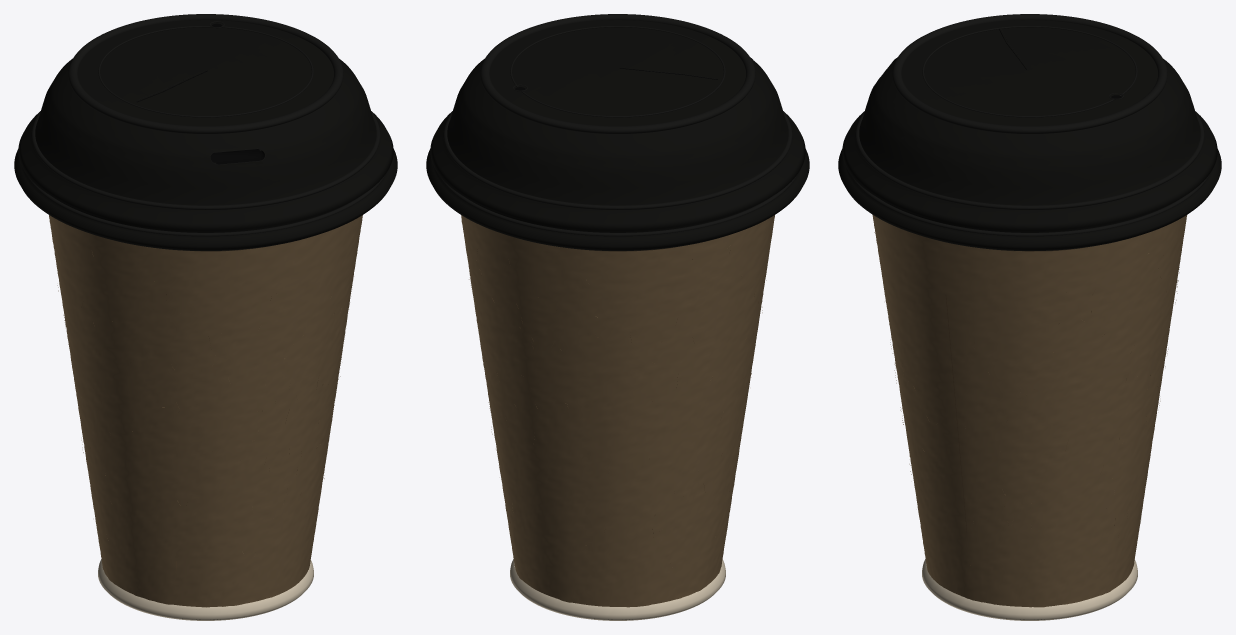
Rendered from paper-cup.glb.
The picture shows the model from 3 angles, left to right: view 1: azimuth 30°, elevation 25°; view 2: azimuth 150°, elevation 25°; view 3: azimuth 270°, elevation 25°; orthographic projection.
Parts seen in each view (by area): view 1: cup_body_outer_tapered_kraft_paper, single_piece_molded_lid_shell_with_cut_through_sip_aperture, slightly_recessed_flat_drinking_lid_top_panel, raised_circular_rim_around_recessed_top_panel, subtle_warm_offwhite_crimped_base_foot_ring, upper_lid_side_bead_above_skirt, lower_double_bead_lid_ridge, inner_fine_circular_mold_line_on_lid_top, dark_recessed_interior_walls_inside_front_sip_aperture, flush_molded_annular_bevel_around_sip_opening; view 2: cup_body_outer_tapered_kraft_paper, single_piece_molded_lid_shell_with_cut_through_sip_aperture, slightly_recessed_flat_drinking_lid_top_panel, raised_circular_rim_around_recessed_top_panel, subtle_warm_offwhite_crimped_base_foot_ring, upper_lid_side_bead_above_skirt, lower_double_bead_lid_ridge, inner_fine_circular_mold_line_on_lid_top; view 3: cup_body_outer_tapered_kraft_paper, single_piece_molded_lid_shell_with_cut_through_sip_aperture, slightly_recessed_flat_drinking_lid_top_panel, raised_circular_rim_around_recessed_top_panel, subtle_warm_offwhite_crimped_base_foot_ring, upper_lid_side_bead_above_skirt, lower_double_bead_lid_ridge, inner_fine_circular_mold_line_on_lid_top.
Part boxes in pixels (x1,y1,x2,y2): cup_body_outer_tapered_kraft_paper: (49,215,362,607); single_piece_molded_lid_shell_with_cut_through_sip_aperture: (14,58,397,250); slightly_recessed_flat_drinking_lid_top_panel: (78,20,333,126); raised_circular_rim_around_recessed_top_panel: (68,14,343,133); subtle_warm_offwhite_crimped_base_foot_ring: (98,559,313,620); upper_lid_side_bead_above_skirt: (31,111,380,209); lower_double_bead_lid_ridge: (25,173,386,236); inner_fine_circular_mold_line_on_lid_top: (98,26,313,117); dark_recessed_interior_walls_inside_front_sip_aperture: (210,149,264,164); flush_molded_annular_bevel_around_sip_opening: (203,145,270,167); cup_body_outer_tapered_kraft_paper: (461,215,774,607); single_piece_molded_lid_shell_with_cut_through_sip_aperture: (426,58,809,250); slightly_recessed_flat_drinking_lid_top_panel: (490,20,745,126); raised_circular_rim_around_recessed_top_panel: (480,14,755,133); subtle_warm_offwhite_crimped_base_foot_ring: (510,559,725,620); upper_lid_side_bead_above_skirt: (443,111,792,209); lower_double_bead_lid_ridge: (437,173,798,236); inner_fine_circular_mold_line_on_lid_top: (510,26,725,117); cup_body_outer_tapered_kraft_paper: (872,214,1186,607); single_piece_molded_lid_shell_with_cut_through_sip_aperture: (838,58,1221,250); slightly_recessed_flat_drinking_lid_top_panel: (902,20,1157,126); raised_circular_rim_around_recessed_top_panel: (892,14,1167,133); subtle_warm_offwhite_crimped_base_foot_ring: (922,559,1137,620); upper_lid_side_bead_above_skirt: (855,112,1204,209); lower_double_bead_lid_ridge: (849,173,1210,236); inner_fine_circular_mold_line_on_lid_top: (922,26,1137,117).
Bounding box in the file's own units: 0.0976 × 0.1435 × 0.0976.
